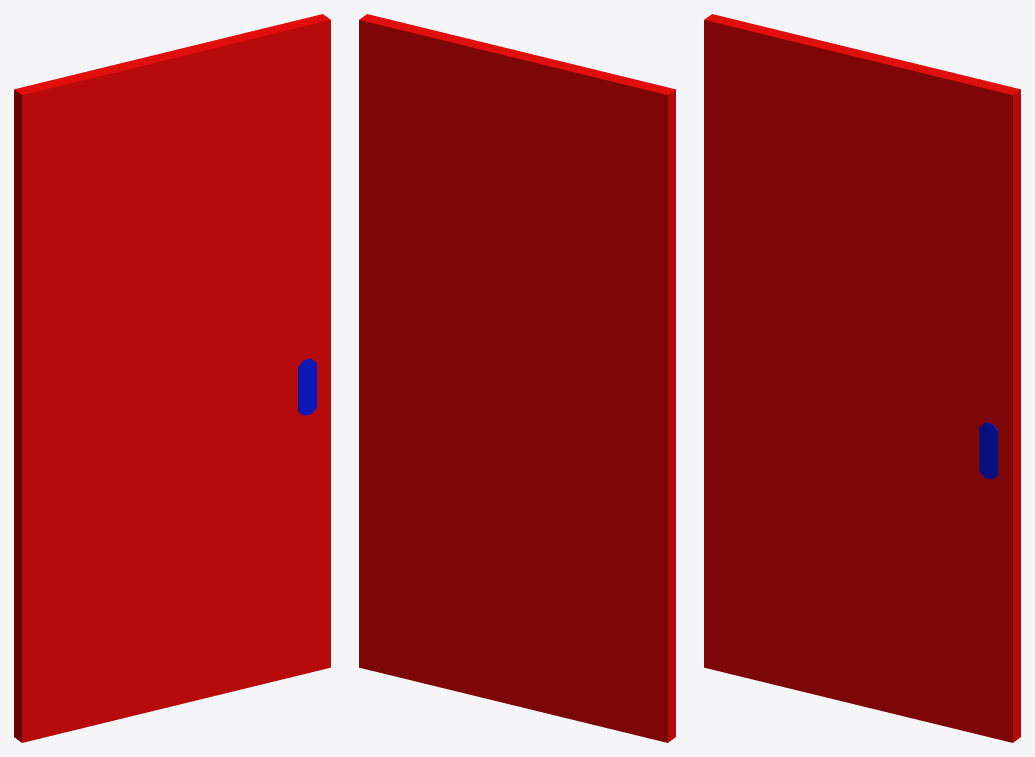
The model's file is Door.fbx.
3 renders of one model, left to right at view 1: azimuth 30°, elevation 25°; view 2: azimuth 150°, elevation 25°; view 3: azimuth 330°, elevation 25°, orthographic.
Parts seen in each view (by area): view 1: Door; view 2: Door; view 3: Door.
Part boxes in pixels (box(x1,y1,x2,y2)): Door: box(14, 14, 330, 742); Door: box(359, 14, 675, 742); Door: box(704, 14, 1020, 742).
Size of the model in its own units: 112 by 225 by 5.45.
